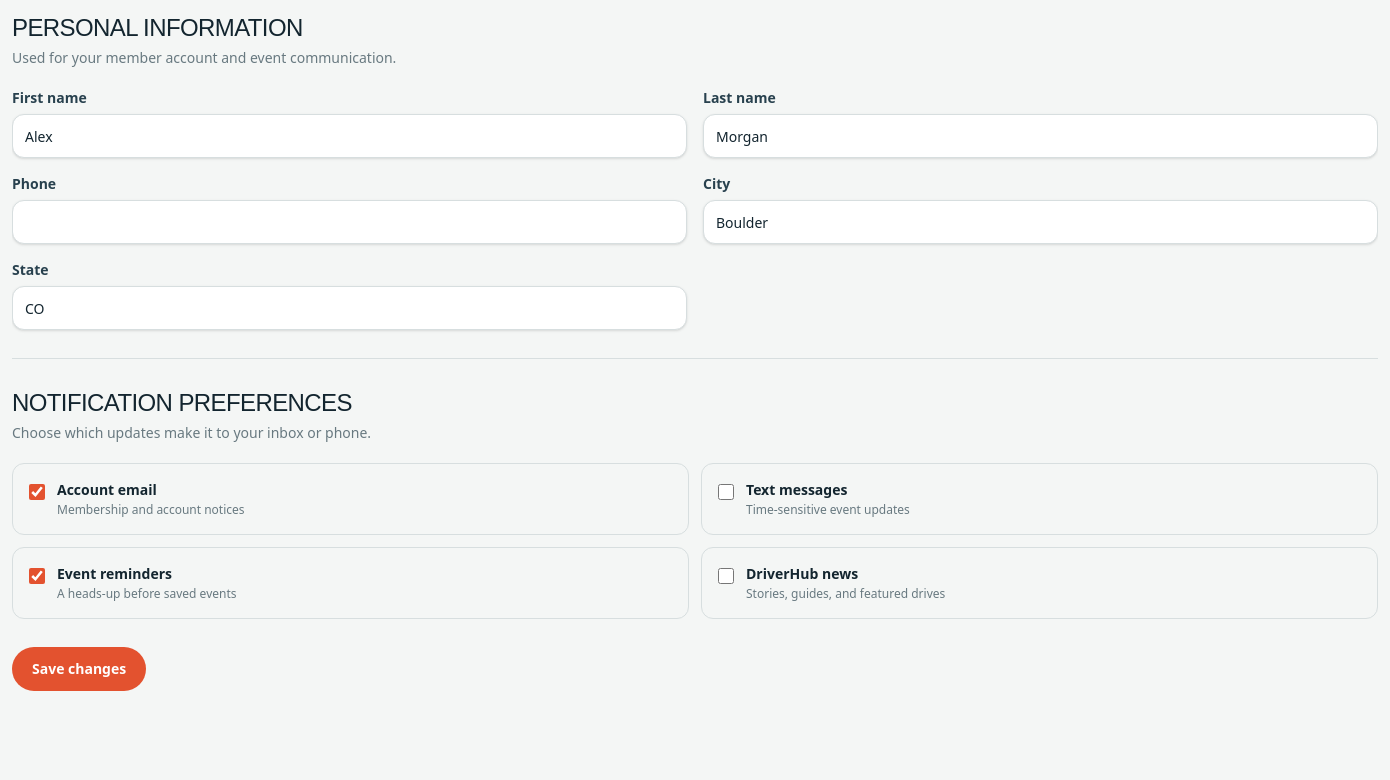
Test case: ProfileForm › submits user changes and confirms success
The image size is (1390, 780).
Replace the text in the field labelled "City" with "Denver" at [1040, 222], box [703,200,1378,244]
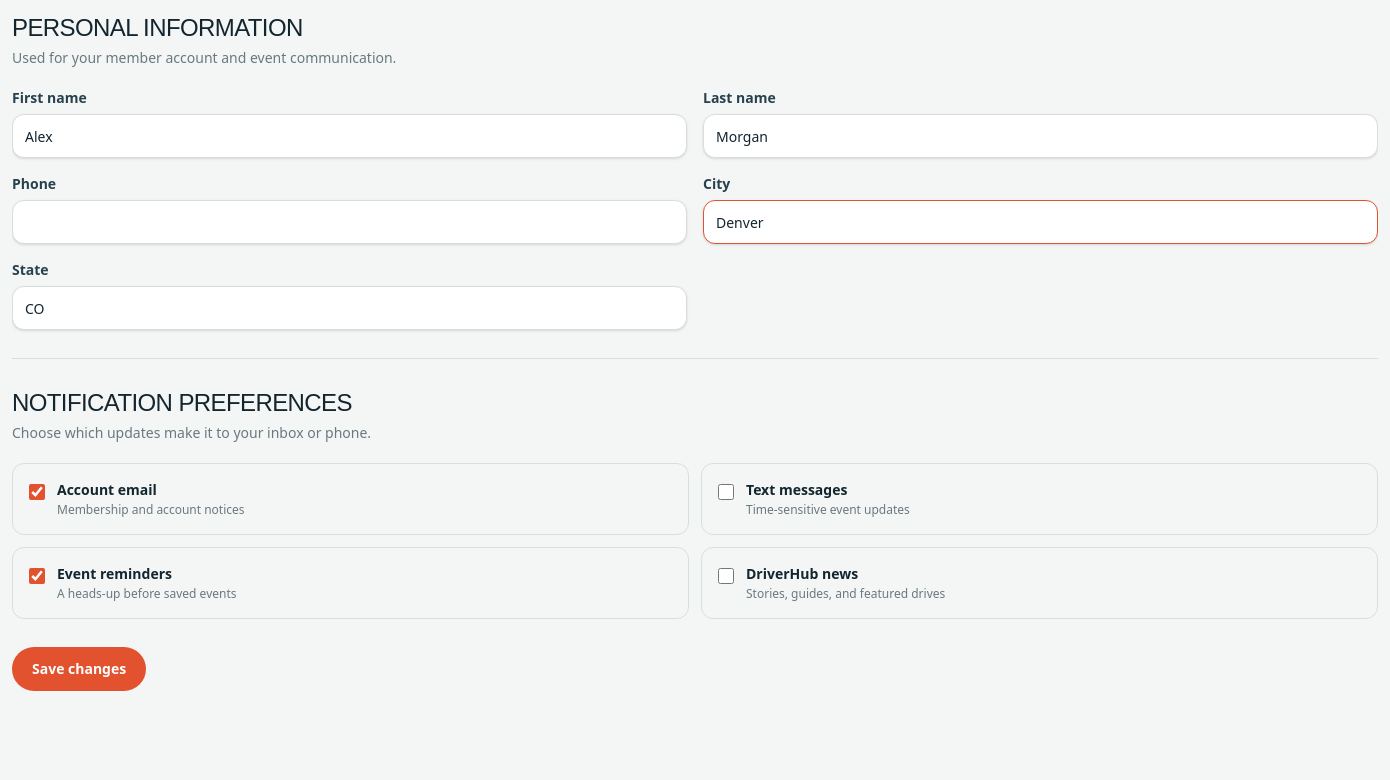
Click the button "Save changes".
click(79, 669)  # box [12,647,146,691]
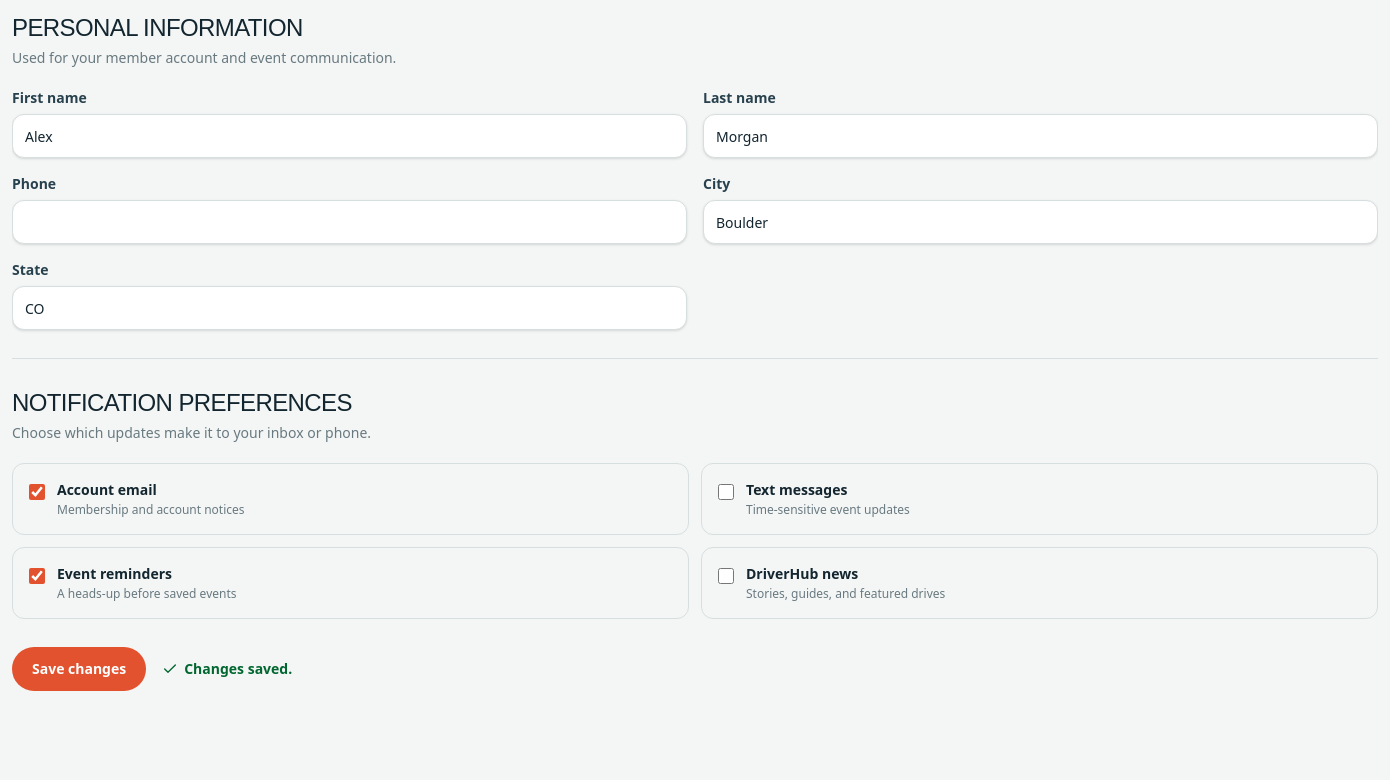
Expected: the message reads "Changes saved.", [184,659,292,678]
